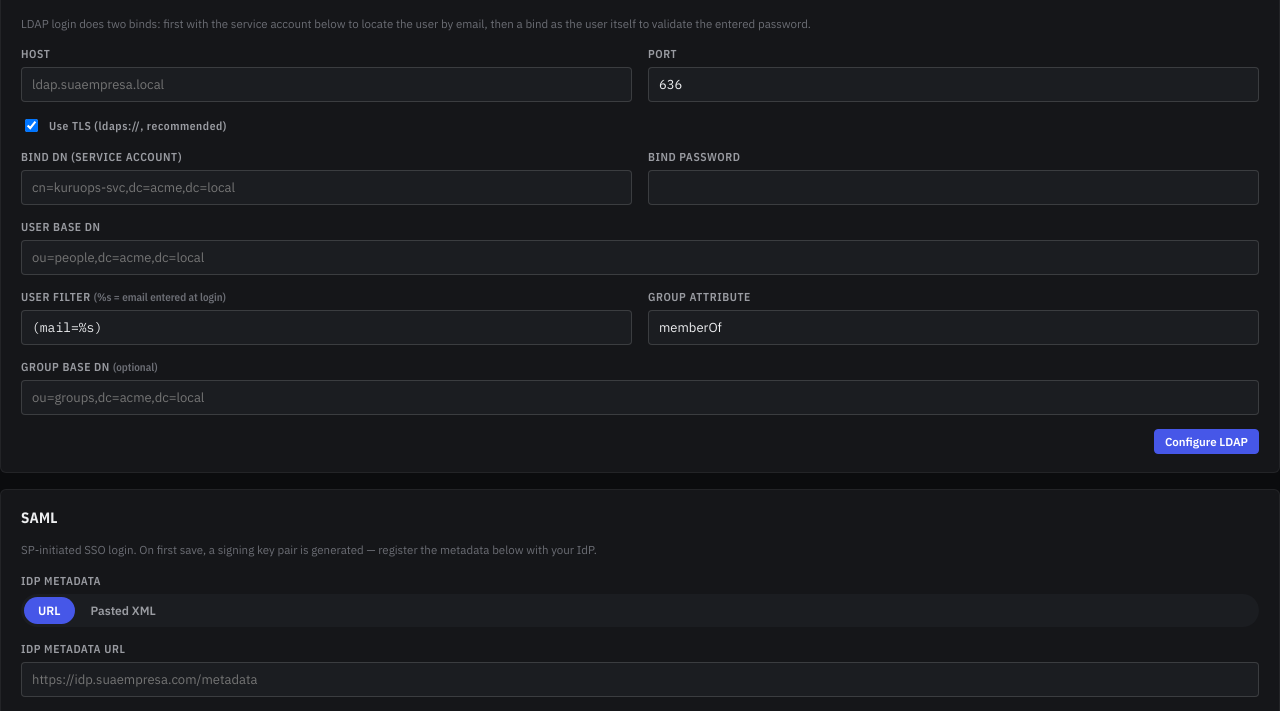
it: IdentityProvidersPanel › switching SAML metadata mode toggles between URL and XML inputs
This screenshot has width=1280, height=711.
Expected: the field labelled "IdP Metadata URL" is shown, 21,662 -> 1259,696
Expected: the field labelled "IdP Metadata XML" is not shown
Click the button "Pasted XML": (123,610) 76,596 -> 170,624
(page scrolled)
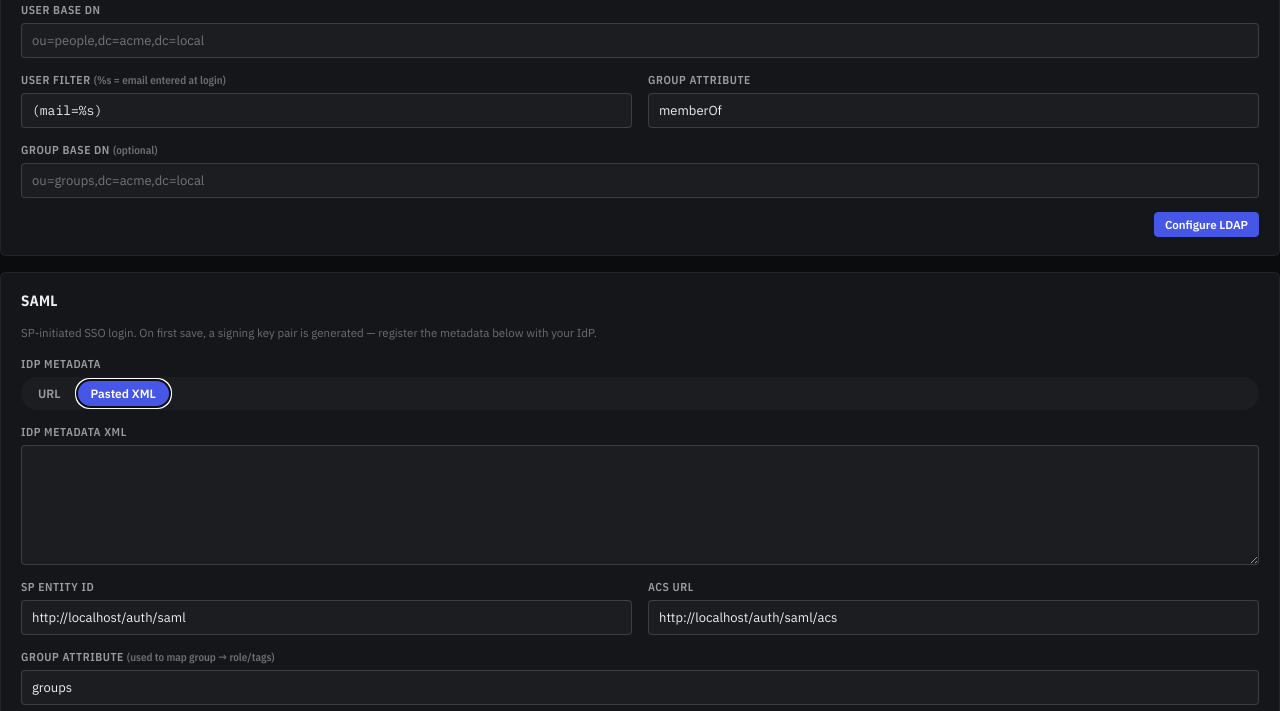
Expected: the text box labelled "IdP Metadata XML" is shown, 21,444 -> 1259,564
